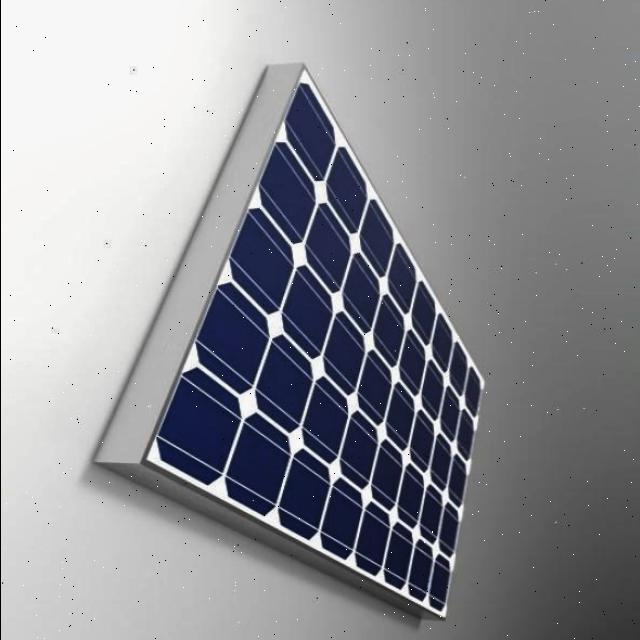Normal Solar Panel: (109, 70, 640, 616)
